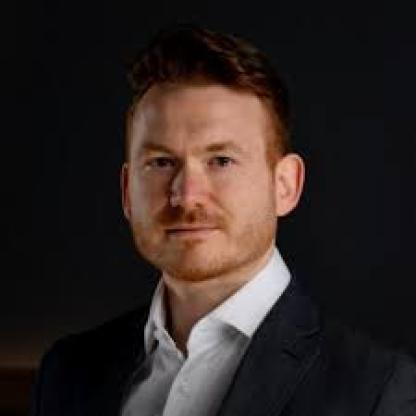person: (111, 58, 312, 288)
